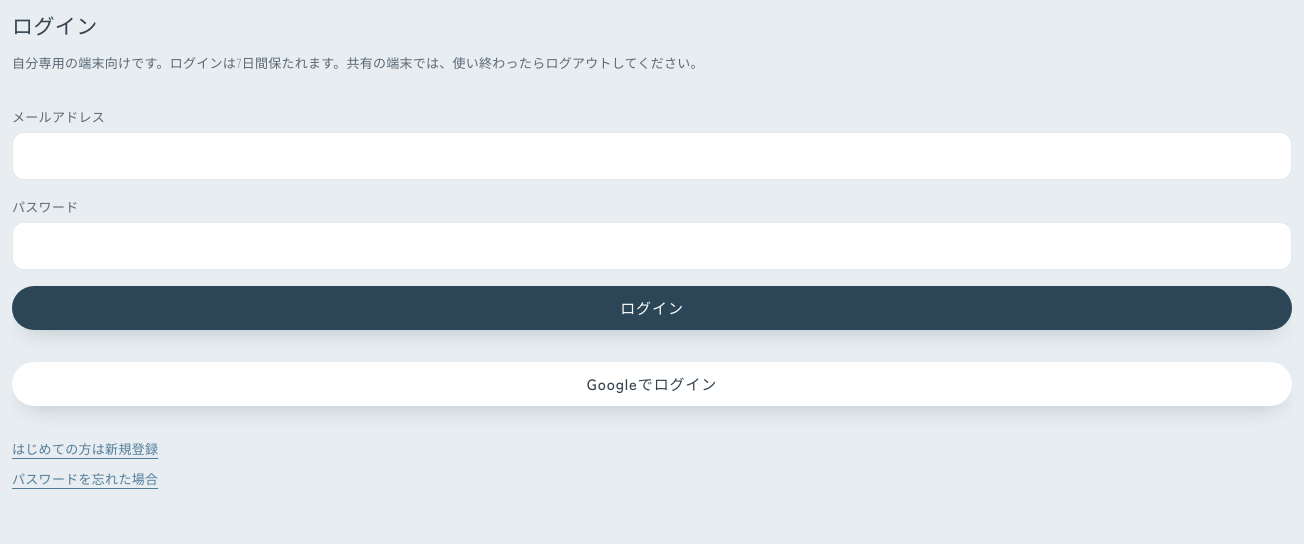
SignInScreen › 失敗はcodeから文言を出し、serverの文言とpasswordを残さない
The image size is (1304, 544).
Expected: the button "ログイン" is enabled, left=12, top=286, right=1292, bottom=330
Type "user@example.com" into the field labelled "メールアドレス" at (652, 156), box left=12, top=132, right=1292, bottom=180
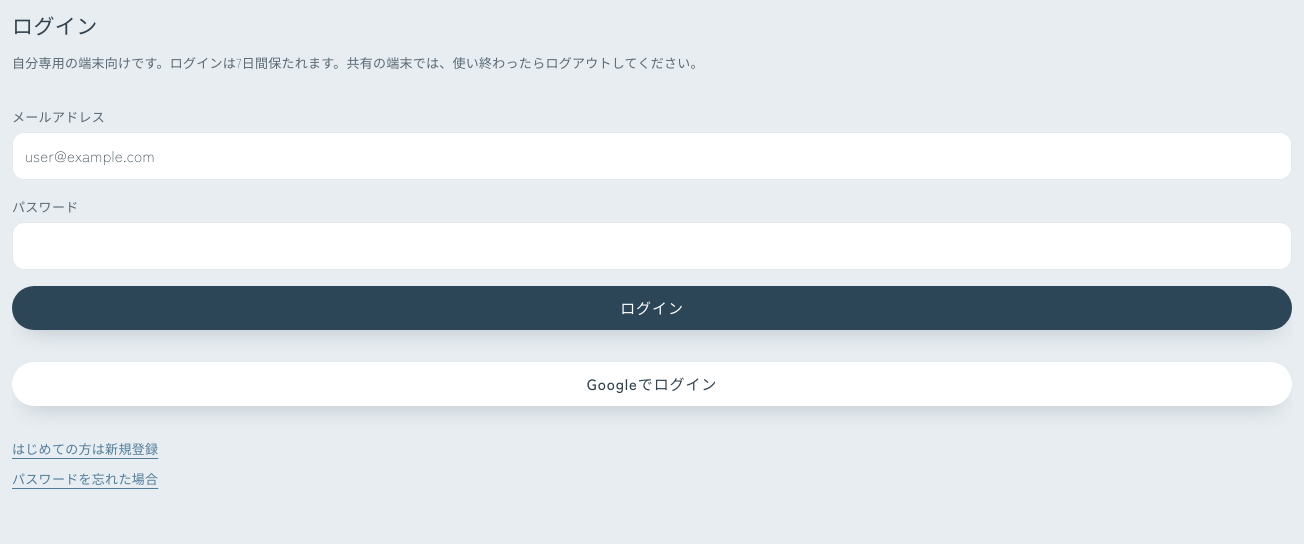
Type "wrong-password" into the password field labelled "パスワード" at (652, 246), box left=12, top=222, right=1292, bottom=270
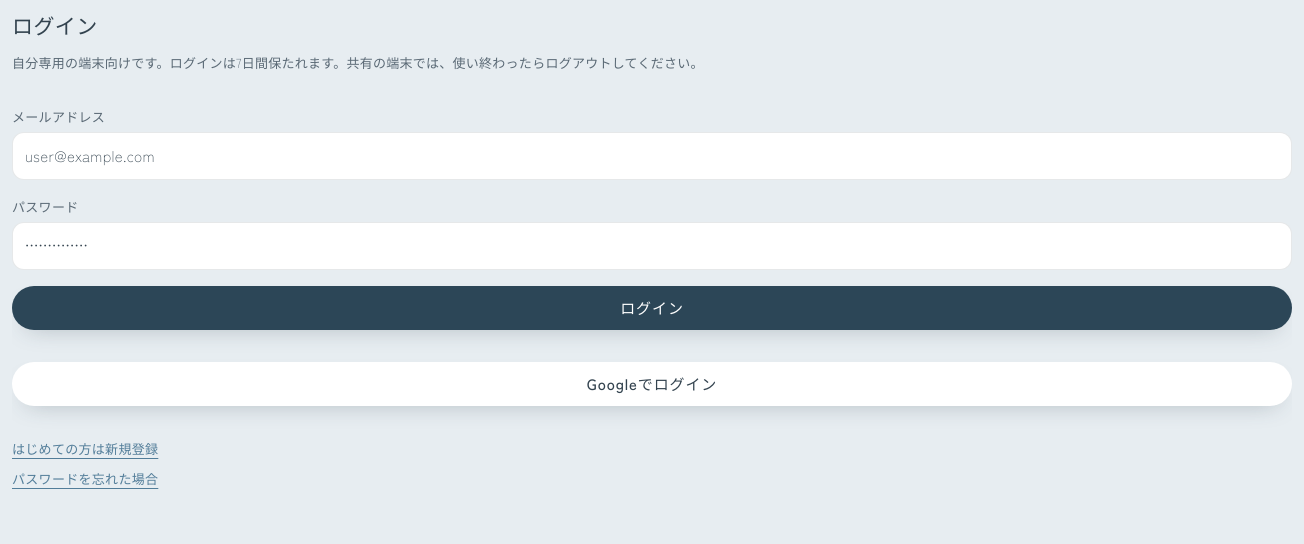
Click the button "ログイン" at (652, 308), box left=12, top=286, right=1292, bottom=330
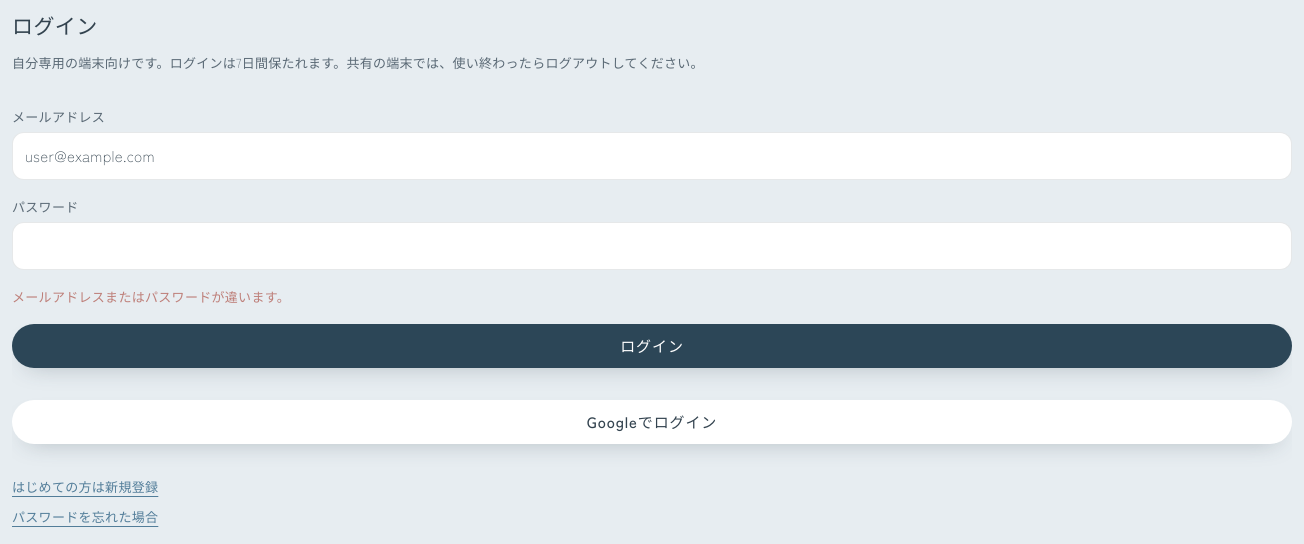
Now the text "メールアドレスまたはパスワードが違います。" is shown, box left=12, top=287, right=290, bottom=306
Now the password field labelled "パスワード" is empty, box left=12, top=222, right=1292, bottom=270
